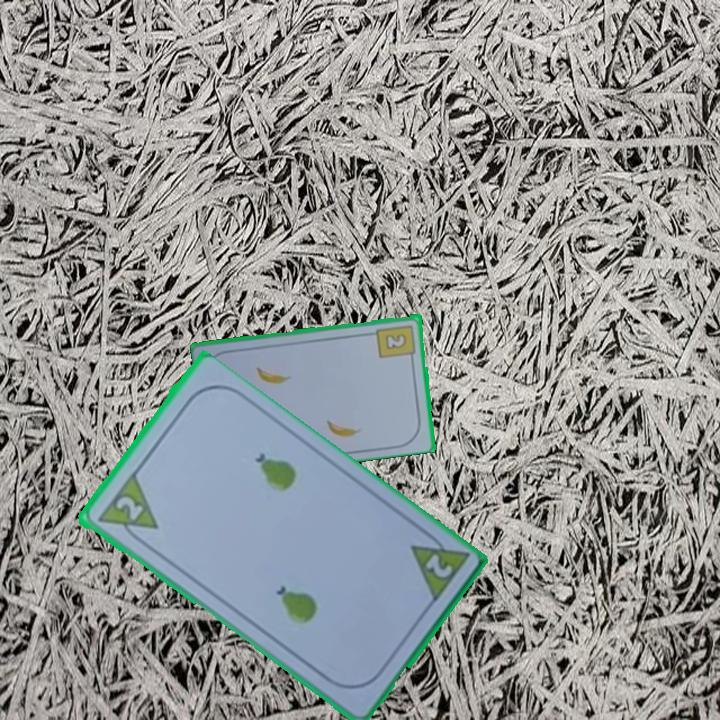2b: (374, 321, 419, 363)
2p: (406, 525, 471, 607), (111, 492, 146, 524)
